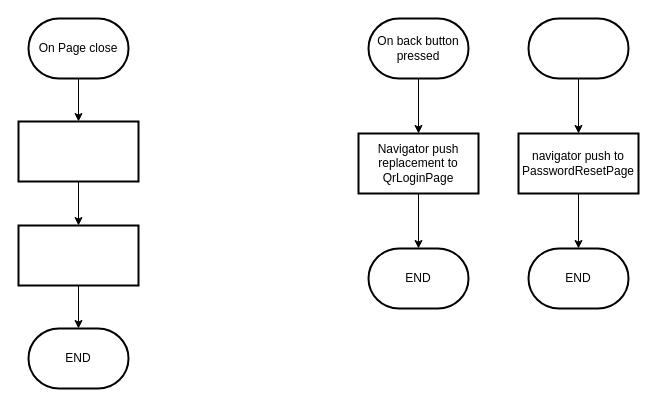
Image size: 656x406. Some labels were removed from this diagram. Each missing label, with the centre of its shape:
"dispose the Email box controller" goes at pixel 78 151.
"dispose the password box controller" goes at pixel 78 255.
"On forgot password button pressed" goes at pixel 578 48.
